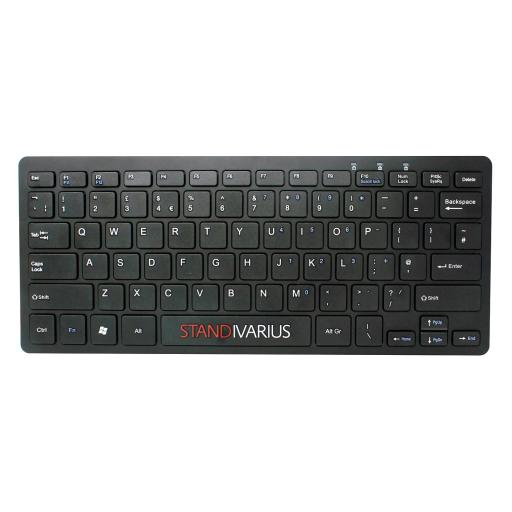keyboard: (18, 147, 498, 365)
